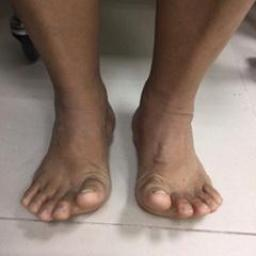Front View -Both Feet-: (12, 52, 234, 237)
